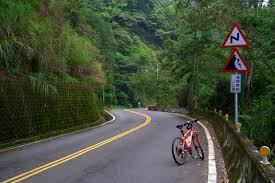Double_bend_right: (220, 23, 251, 49)
